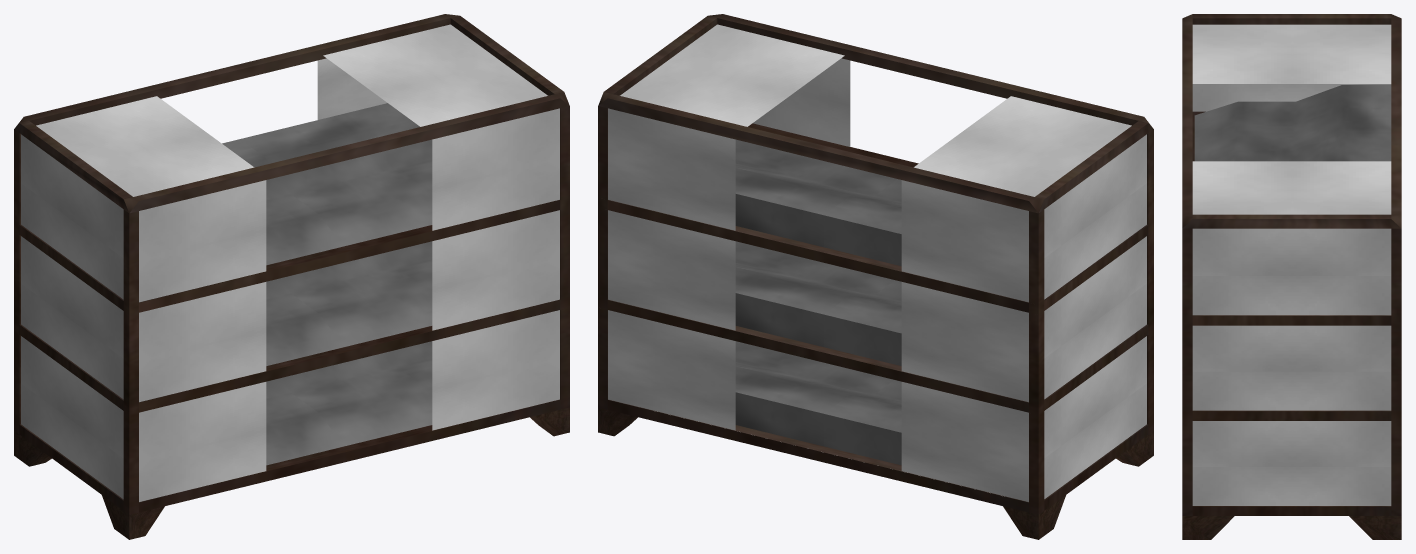
The model's file is cabinet_jeweler_caseShort.fbx.
The picture shows the model from 3 angles, left to right: view 1: azimuth 30°, elevation 25°; view 2: azimuth 150°, elevation 25°; view 3: azimuth 270°, elevation 25°; orthographic projection. The views are drawn at different scales.
Visible parts, largest first — view 1: cabinet_glass, polySurface3, cabinet_glass2, cabinet_glass1, cabinet_displayRise, cabinet_displayRise1, cabinet_displayRise2, topFrame_shelf3, topFrame_shelf1, topFrame_shelf2, cabinet_foot_5, cabinet_foot_3 (+1 smaller); view 2: cabinet_glass, polySurface3, cabinet_glass2, cabinet_glass1, cabinet_displayRise, cabinet_displayRise1, cabinet_displayRise2, topFrame_shelf3, topFrame_shelf1, topFrame_shelf2, cabinet_foot_4, cabinet_foot_2 (+1 smaller); view 3: cabinet_glass, polySurface3, cabinet_glass2, cabinet_glass1, cabinet_displayRise, cabinet_foot_3, cabinet_foot_2, topFrame_shelf2, topFrame_shelf3.
Part boxes in pixels (x1=…): cabinet_glass: x1=21, y1=24, x2=559, y2=302; polySurface3: x1=14, y1=14, x2=569, y2=514; cabinet_glass2: x1=21, y1=210, x2=559, y2=402; cabinet_glass1: x1=21, y1=310, x2=559, y2=501; cabinet_displayRise: x1=222, y1=103, x2=432, y2=265; cabinet_displayRise1: x1=266, y1=241, x2=432, y2=365; cabinet_displayRise2: x1=266, y1=341, x2=432, y2=465; topFrame_shelf3: x1=20, y1=200, x2=559, y2=302; topFrame_shelf1: x1=20, y1=399, x2=559, y2=502; topFrame_shelf2: x1=20, y1=299, x2=559, y2=402; cabinet_foot_5: x1=102, y1=495, x2=164, y2=539; cabinet_foot_3: x1=530, y1=407, x2=569, y2=436; cabinet_glass: x1=608, y1=24, x2=1146, y2=302; polySurface3: x1=598, y1=14, x2=1153, y2=514; cabinet_glass2: x1=608, y1=210, x2=1146, y2=402; cabinet_glass1: x1=608, y1=310, x2=1146, y2=501; cabinet_displayRise: x1=735, y1=139, x2=901, y2=266; cabinet_displayRise1: x1=735, y1=241, x2=901, y2=365; cabinet_displayRise2: x1=735, y1=341, x2=901, y2=465; topFrame_shelf3: x1=608, y1=123, x2=1147, y2=302; topFrame_shelf1: x1=608, y1=399, x2=1147, y2=502; topFrame_shelf2: x1=608, y1=299, x2=1147, y2=402; cabinet_foot_4: x1=1003, y1=495, x2=1065, y2=539; cabinet_foot_2: x1=598, y1=407, x2=637, y2=436; cabinet_glass: x1=1192, y1=24, x2=1391, y2=315; polySurface3: x1=1182, y1=14, x2=1401, y2=515; cabinet_glass2: x1=1192, y1=325, x2=1391, y2=410; cabinet_glass1: x1=1192, y1=421, x2=1391, y2=505; cabinet_displayRise: x1=1194, y1=85, x2=1391, y2=161; cabinet_foot_3: x1=1182, y1=516, x2=1234, y2=539; cabinet_foot_2: x1=1349, y1=516, x2=1401, y2=539; topFrame_shelf2: x1=1193, y1=410, x2=1390, y2=411; topFrame_shelf3: x1=1192, y1=111, x2=1391, y2=315.
Bounding box in the file's own units: 460 × 336 × 208.
Materials: 3 (3 with a texture image).
